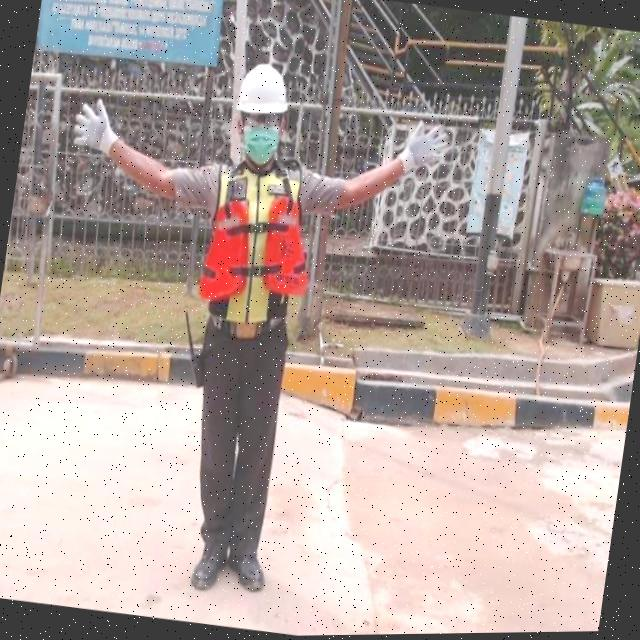goggles_on: (238, 108, 288, 132)
